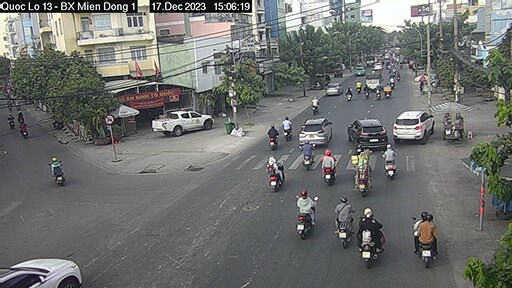car: (9, 247, 95, 288), (385, 92, 438, 142), (154, 104, 227, 140), (294, 120, 344, 144), (350, 115, 379, 152)
motorbike: (412, 205, 447, 261), (287, 183, 318, 239), (351, 205, 381, 262), (331, 194, 353, 246), (266, 157, 288, 197), (321, 148, 342, 185), (384, 142, 402, 185)
truck: (360, 70, 385, 94)
